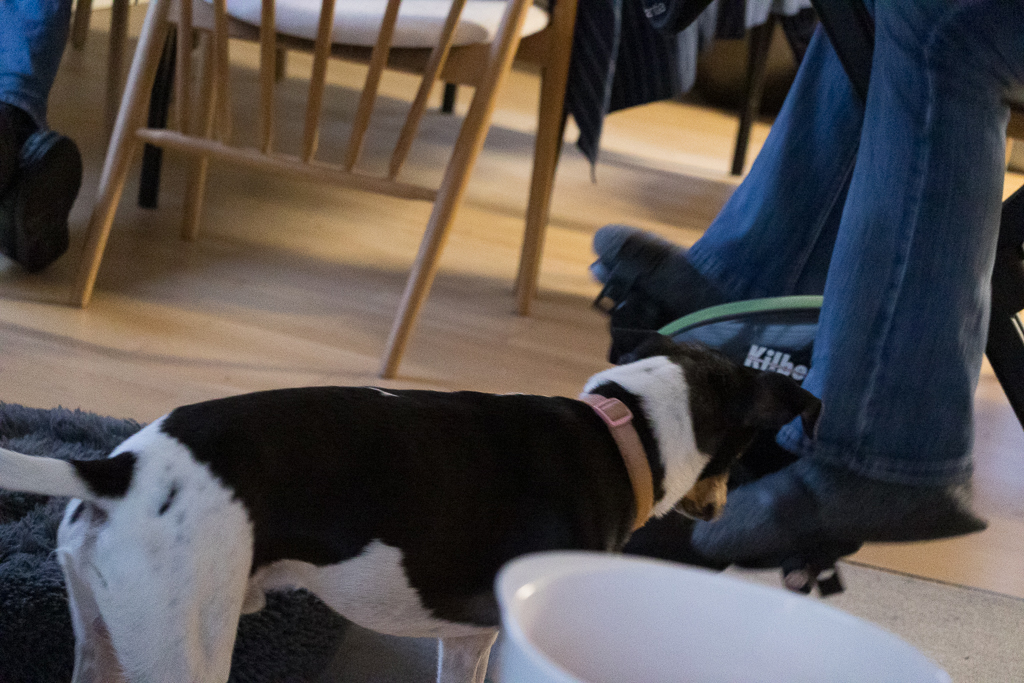Dog: (0, 302, 792, 683)
Humanoid: (563, 0, 1024, 583), (0, 0, 103, 292)
